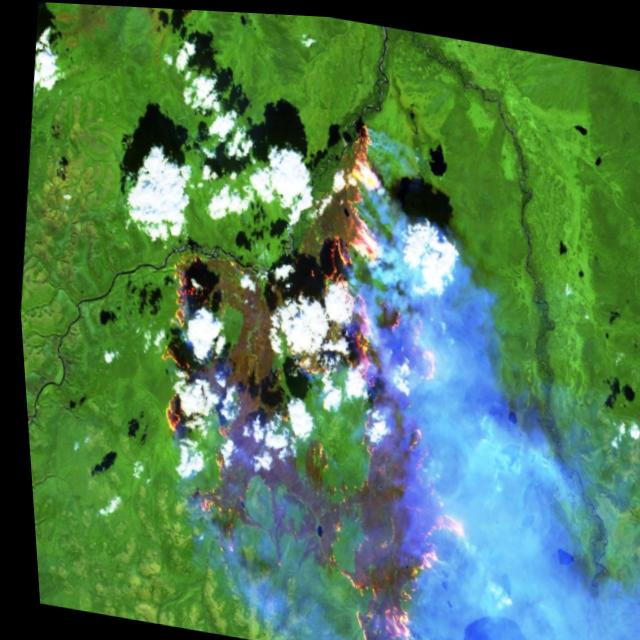fire: (103, 75, 515, 640)
